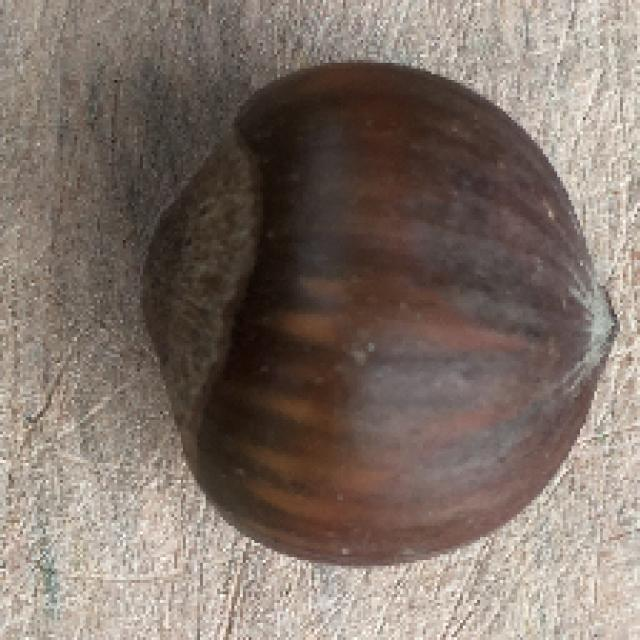DamagedHazelnut: (144, 62, 619, 574)
